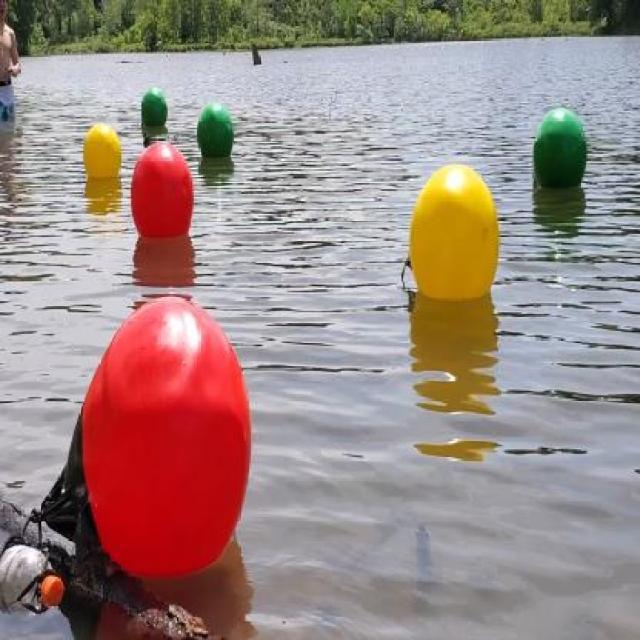buoy: (26, 293, 254, 589), (402, 165, 502, 302), (130, 140, 193, 240), (532, 106, 588, 189), (197, 102, 234, 162), (82, 122, 121, 178), (140, 90, 168, 130)
